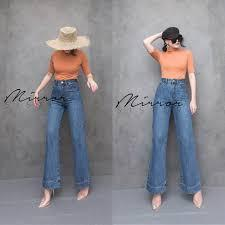Tshirt: (43, 47, 100, 88), (148, 46, 196, 82)
pants: (145, 77, 206, 194), (41, 80, 96, 194)
